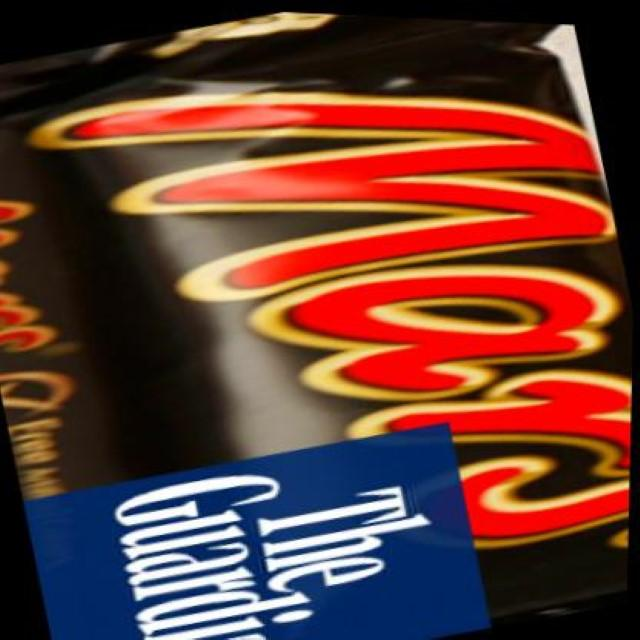mars_chocolate: (143, 29, 640, 561)
